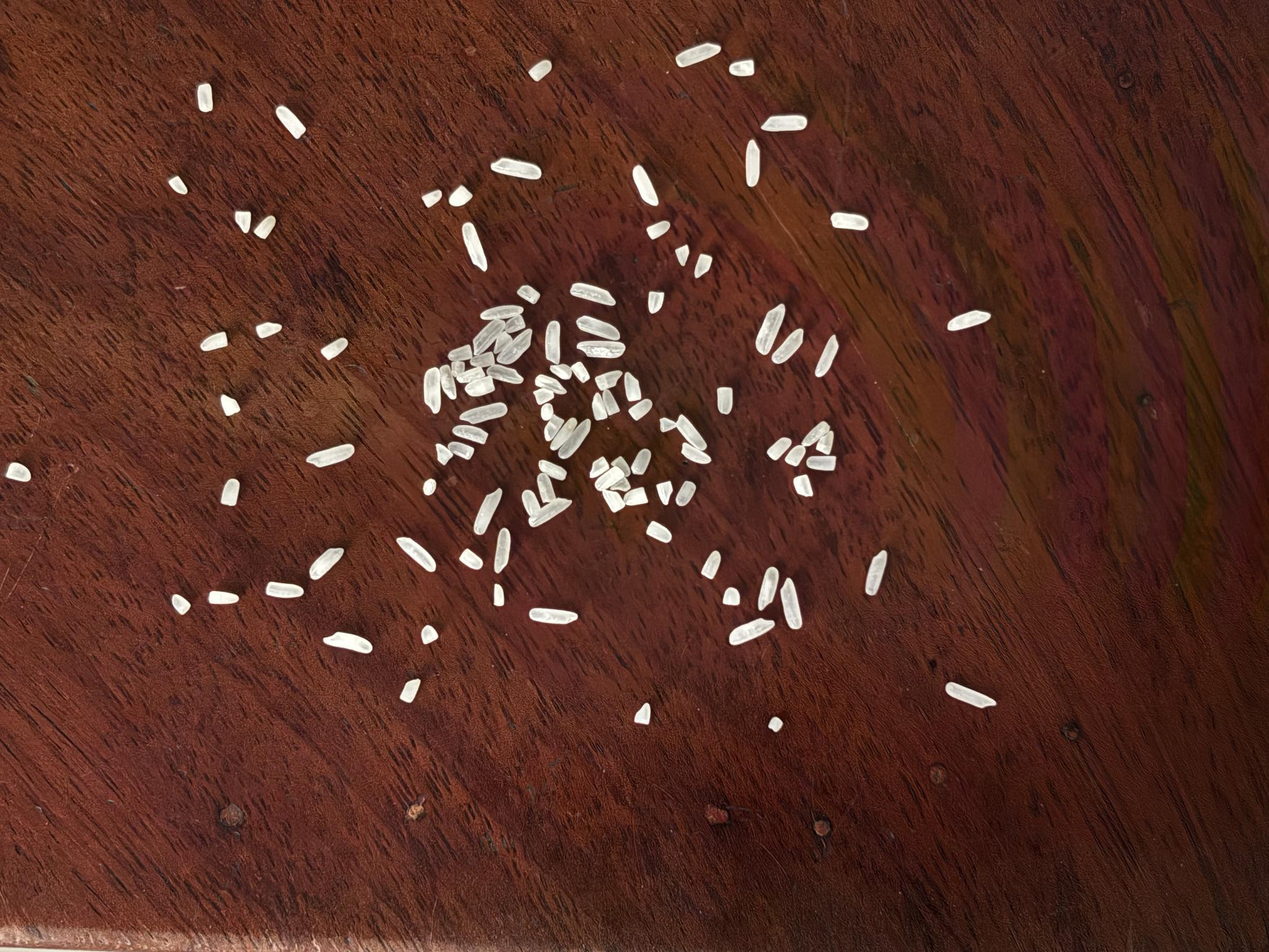Rice-th-y-nh: (751, 302, 789, 356), (728, 611, 775, 652), (490, 150, 542, 187), (774, 577, 809, 631), (676, 35, 721, 74), (576, 332, 626, 367), (570, 275, 616, 312), (575, 309, 621, 345), (557, 416, 593, 461), (472, 487, 505, 536), (396, 536, 438, 573), (761, 107, 808, 140), (861, 549, 893, 597), (528, 495, 573, 529), (947, 303, 992, 337), (629, 163, 662, 209), (459, 221, 489, 271), (673, 412, 710, 452), (811, 333, 843, 379), (753, 566, 785, 612), (771, 326, 806, 368), (529, 601, 578, 631), (487, 527, 517, 574), (497, 328, 534, 366), (945, 681, 995, 709), (459, 399, 509, 427), (738, 139, 767, 187), (538, 320, 568, 365), (472, 318, 506, 356), (830, 206, 869, 238), (325, 630, 373, 655), (308, 547, 344, 580), (549, 415, 578, 452), (480, 299, 524, 323), (307, 445, 354, 467), (799, 419, 831, 450), (277, 106, 306, 139), (451, 422, 489, 446), (486, 363, 524, 386), (594, 366, 625, 394), (423, 368, 442, 413), (594, 465, 624, 493), (620, 371, 645, 404), (534, 372, 568, 396), (534, 471, 559, 503), (679, 442, 712, 466), (673, 479, 699, 509), (537, 458, 568, 483), (266, 580, 304, 600), (645, 519, 674, 545), (630, 447, 655, 477), (806, 451, 837, 475), (766, 435, 793, 462), (627, 396, 654, 423), (645, 216, 672, 243), (728, 55, 756, 81), (714, 385, 737, 416), (700, 549, 723, 580), (600, 488, 626, 514), (622, 485, 650, 509), (520, 489, 543, 518), (466, 375, 496, 397), (815, 430, 839, 457), (600, 388, 622, 417), (439, 365, 457, 400), (791, 473, 816, 498), (448, 184, 474, 208), (399, 677, 422, 704), (692, 252, 714, 280), (544, 413, 566, 441), (589, 393, 610, 422), (784, 443, 808, 468), (645, 289, 668, 315), (653, 479, 675, 506), (447, 440, 475, 461), (610, 454, 634, 478), (516, 283, 541, 306), (458, 548, 484, 570), (529, 59, 553, 82), (569, 359, 591, 384), (457, 365, 485, 384), (588, 457, 611, 480), (720, 585, 743, 608), (492, 331, 514, 355), (322, 338, 348, 358), (633, 702, 654, 726), (531, 386, 555, 407), (471, 351, 497, 370), (549, 362, 573, 382), (6, 462, 31, 481), (673, 243, 692, 268), (221, 479, 239, 505), (201, 332, 227, 350), (419, 624, 440, 646), (197, 84, 213, 112), (255, 216, 275, 238), (504, 313, 526, 333), (208, 590, 239, 604), (448, 344, 473, 361), (422, 189, 443, 209), (221, 395, 240, 416), (435, 443, 453, 465), (491, 583, 507, 607), (171, 595, 190, 615), (657, 414, 676, 434), (256, 323, 282, 337), (235, 211, 251, 232), (169, 176, 187, 194), (540, 402, 555, 422), (767, 716, 784, 733), (422, 478, 437, 496), (450, 361, 466, 376)
